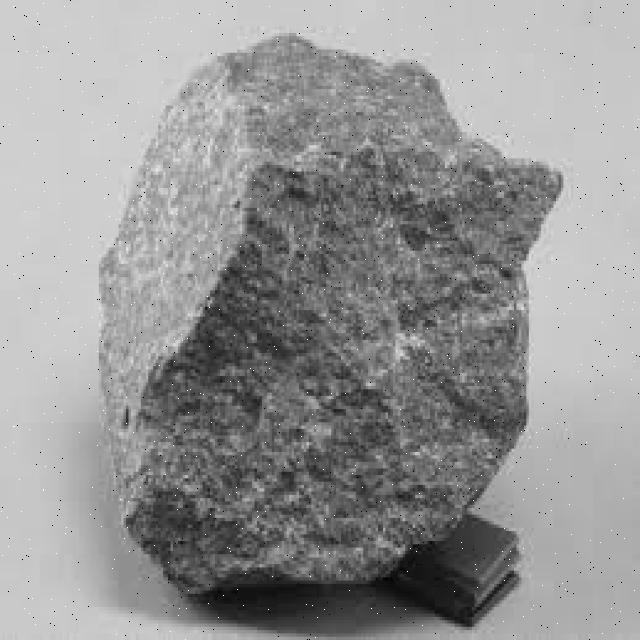Metamorphic: (94, 33, 548, 620)
